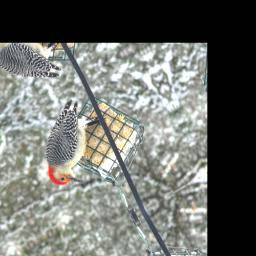Woodpecker: (23, 90, 121, 195)
